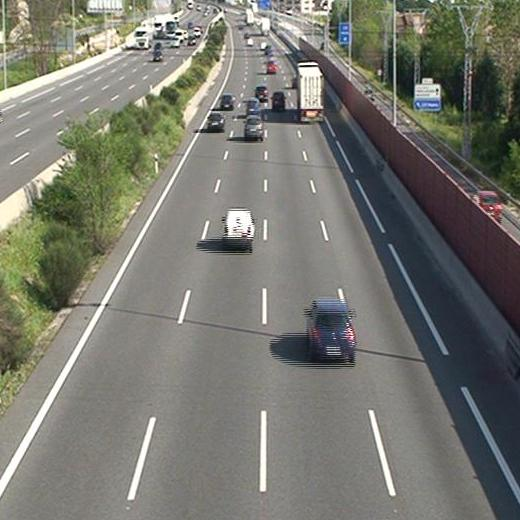car: (309, 302, 355, 356), (224, 210, 254, 246), (245, 116, 263, 138), (207, 114, 225, 129), (219, 94, 234, 108), (255, 86, 268, 100)
truck: (297, 62, 322, 121)
van: (271, 92, 285, 111), (245, 100, 258, 115), (265, 60, 276, 72)
